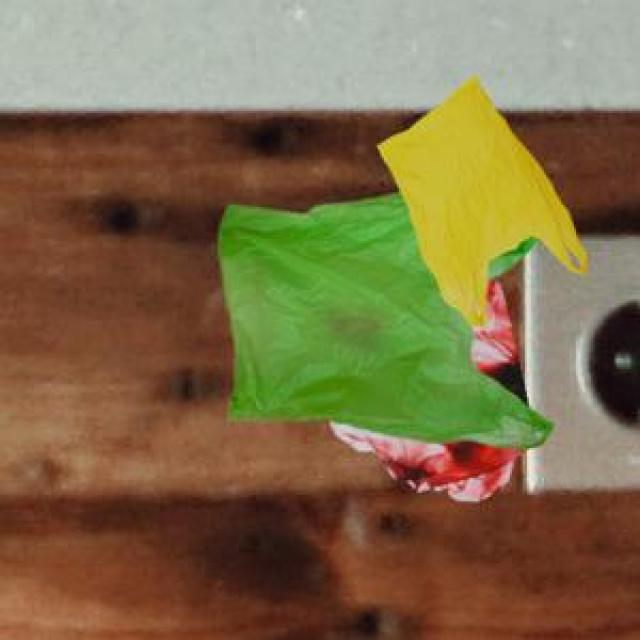plastic: (155, 49, 635, 512)
